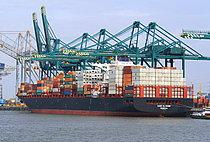Ship: (12, 55, 200, 119)
